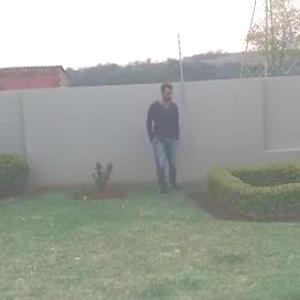follow: (144, 76, 182, 202)
